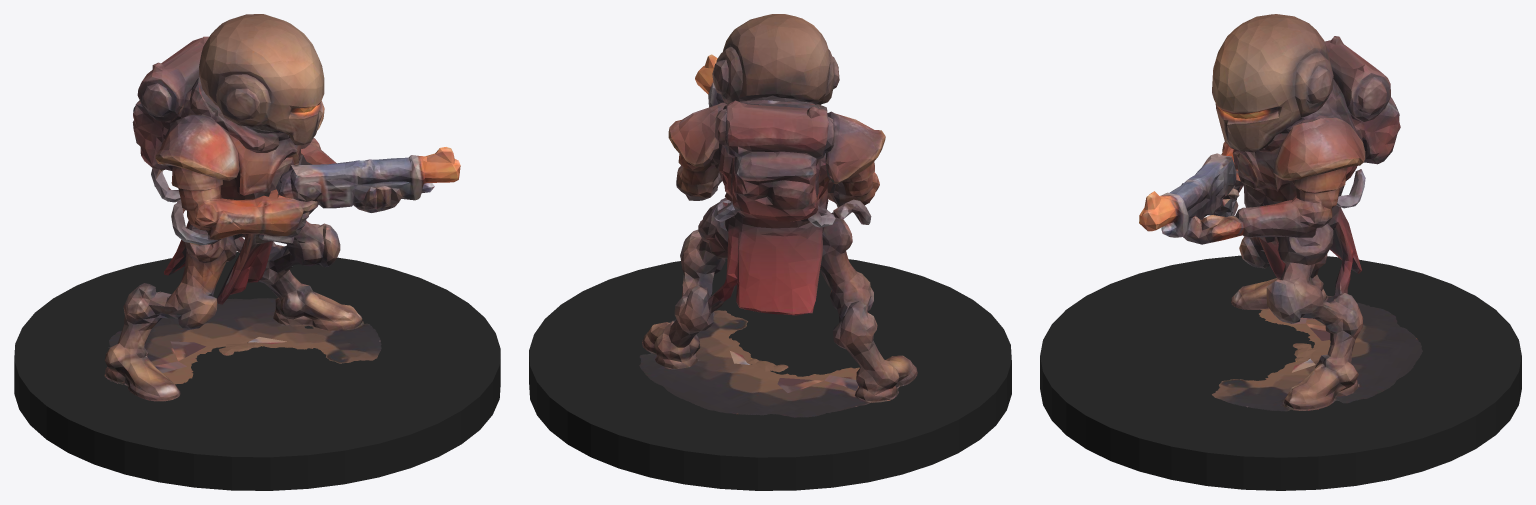
The model's file is hc-sicarian-infiltrator-warrior.glb.
3 renders of one model, left to right at view 1: azimuth 30°, elevation 25°; view 2: azimuth 150°, elevation 25°; view 3: azimuth 270°, elevation 25°, orthographic.
Parts seen in each view (by area): view 1: base, figure; view 2: base, figure; view 3: base, figure.
Boxes of the visible parts, box(x1,y1,x2,y2) form: base: box(14, 252, 500, 490); figure: box(104, 14, 460, 401); base: box(529, 258, 1011, 490); figure: box(639, 14, 917, 417); base: box(1040, 255, 1521, 490); figure: box(1139, 14, 1422, 411).
Bounding box in the file's own units: 1.57 × 1.32 × 1.57.
2 materials, 1 textured.
